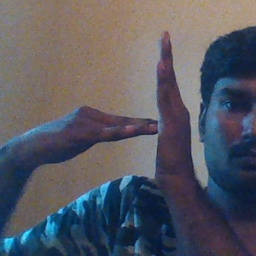Z: (93, 31, 201, 195)
